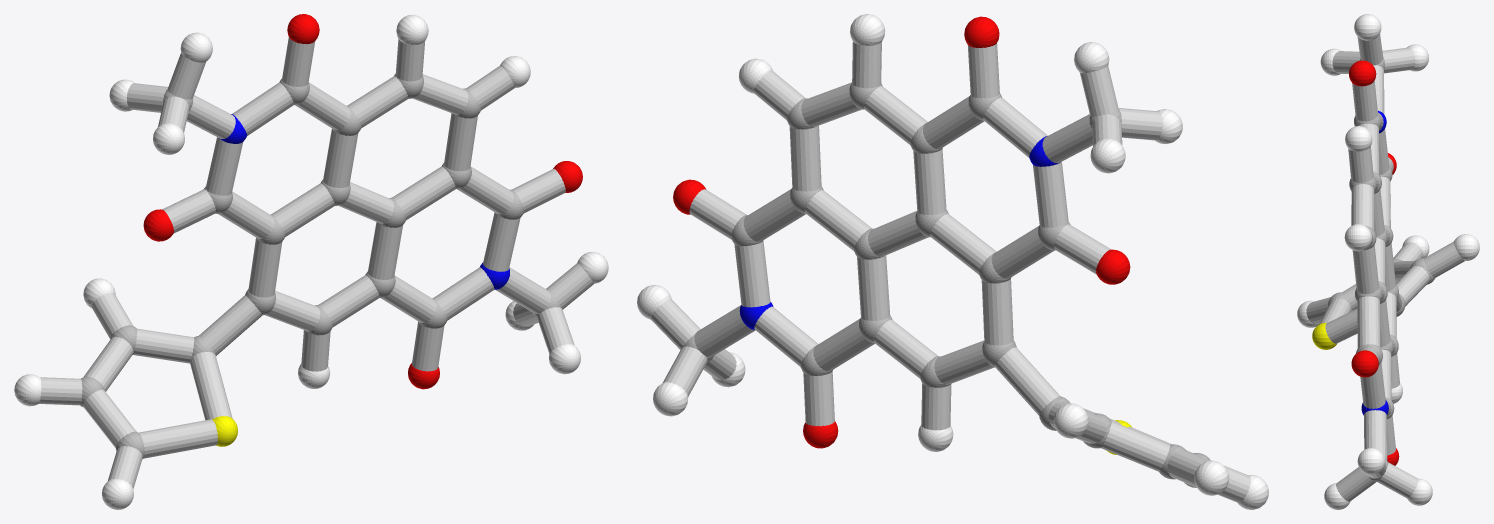
The model's file is Dimethyl_Naphthalene_Dicarboximide_Phi_25_Theta_60_Thiophene.glb.
The picture shows the model from 3 angles, left to right: view 1: azimuth 30°, elevation 25°; view 2: azimuth 150°, elevation 25°; view 3: azimuth 270°, elevation 25°; orthographic projection. The views are drawn at different scales.
Visible parts, largest first — view 1: grp14119, grp7241, grp1, grp12309, grp11585; view 2: grp14119, grp7241, grp1, grp12309, grp11585; view 3: grp14119, grp7241, grp1, grp12309, grp13757, grp11585.
Boxes of the visible parts, x1,y1,x2,y2 form: grp14119: (39, 37, 593, 488); grp7241: (14, 14, 608, 509); grp1: (80, 74, 560, 458); grp12309: (143, 14, 582, 389); grp11585: (219, 114, 509, 289); grp14119: (650, 41, 1250, 502); grp7241: (637, 14, 1268, 509); grp1: (682, 83, 1210, 487); grp12309: (673, 16, 1130, 448); grp11585: (739, 136, 1060, 329); grp14119: (1306, 34, 1464, 501); grp7241: (1297, 14, 1479, 509); grp1: (1328, 57, 1435, 481); grp12309: (1349, 60, 1399, 465); grp13757: (1312, 323, 1336, 349); grp11585: (1361, 110, 1388, 415).
Size of the model in its own units: 12.1 by 8.66 by 4.01.
